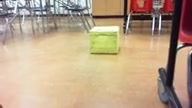cube: (89, 26, 119, 54)
